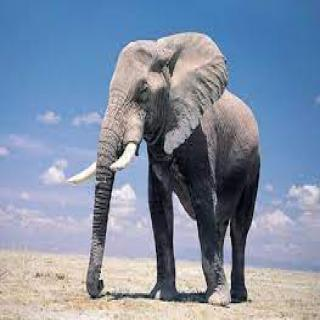Elephant: (63, 28, 264, 320)
